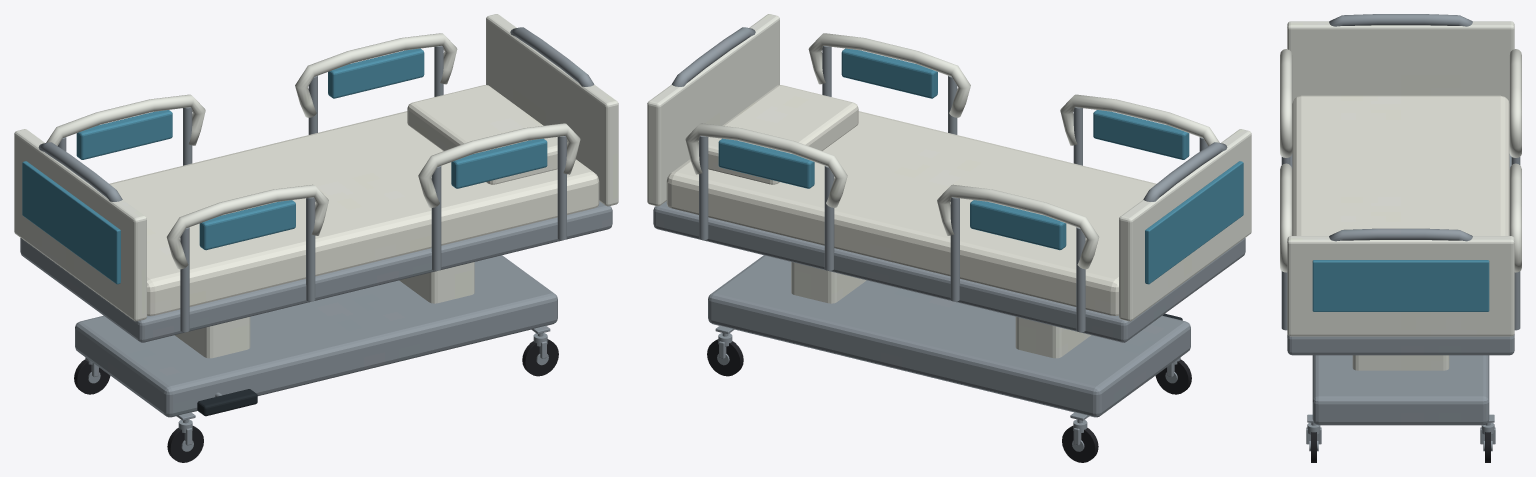
File: hospital_bed.glb
3 views of the same model, side by side, from view 1: azimuth 30°, elevation 25°; view 2: azimuth 150°, elevation 25°; view 3: azimuth 270°, elevation 25° (orthographic). The views are drawn at different scales.
Visible parts, largest first — view 1: Bed control mounting stem, Bed pillow, Bed end panel, Inset end panel, Cast polyurethane wheel, Bed foot control; view 2: Bed control mounting stem, Bed pillow, Bed end panel, Inset end panel, Cast polyurethane wheel; view 3: Bed end panel, Bed pillow, Bed control mounting stem, Inset end panel, Cast polyurethane wheel.
Boxes of the visible parts, x1,y1,x2,y2 form: Bed control mounting stem: (20, 27, 612, 451); Bed pillow: (109, 85, 599, 315); Bed end panel: (14, 14, 618, 358); Inset end panel: (22, 48, 547, 284); Cast polyurethane wheel: (74, 339, 558, 462); Bed foot control: (197, 389, 257, 416); Bed control mounting stem: (653, 27, 1245, 451); Bed pillow: (666, 85, 1156, 315); Bed end panel: (647, 14, 1251, 358); Inset end panel: (718, 48, 1243, 284); Cast polyurethane wheel: (707, 339, 1191, 462); Bed end panel: (1280, 21, 1521, 370); Bed pillow: (1292, 95, 1509, 235); Bed control mounting stem: (1281, 14, 1520, 451); Inset end panel: (1312, 260, 1489, 311); Cast polyurethane wheel: (1311, 432, 1490, 462).
Bounding box in the file's own units: 2.2 × 1.18 × 0.9999.
6 materials, 6 textured.
